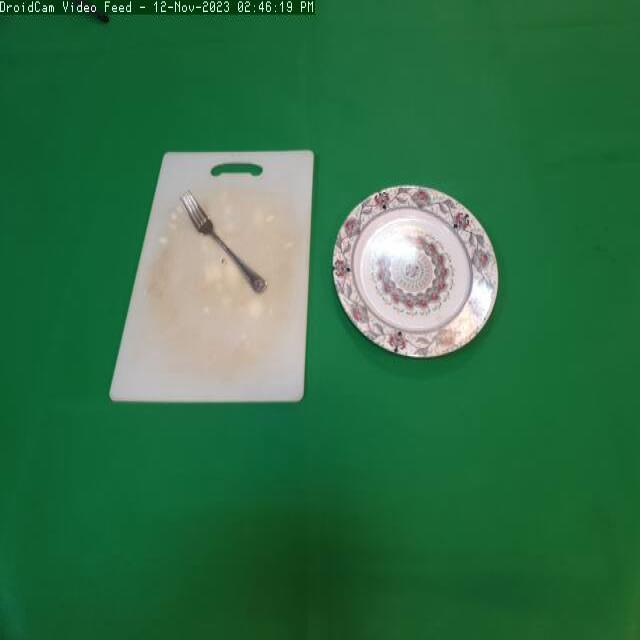cutting board: (109, 137, 332, 422)
fork: (175, 180, 270, 298)
plate: (331, 180, 509, 367)
